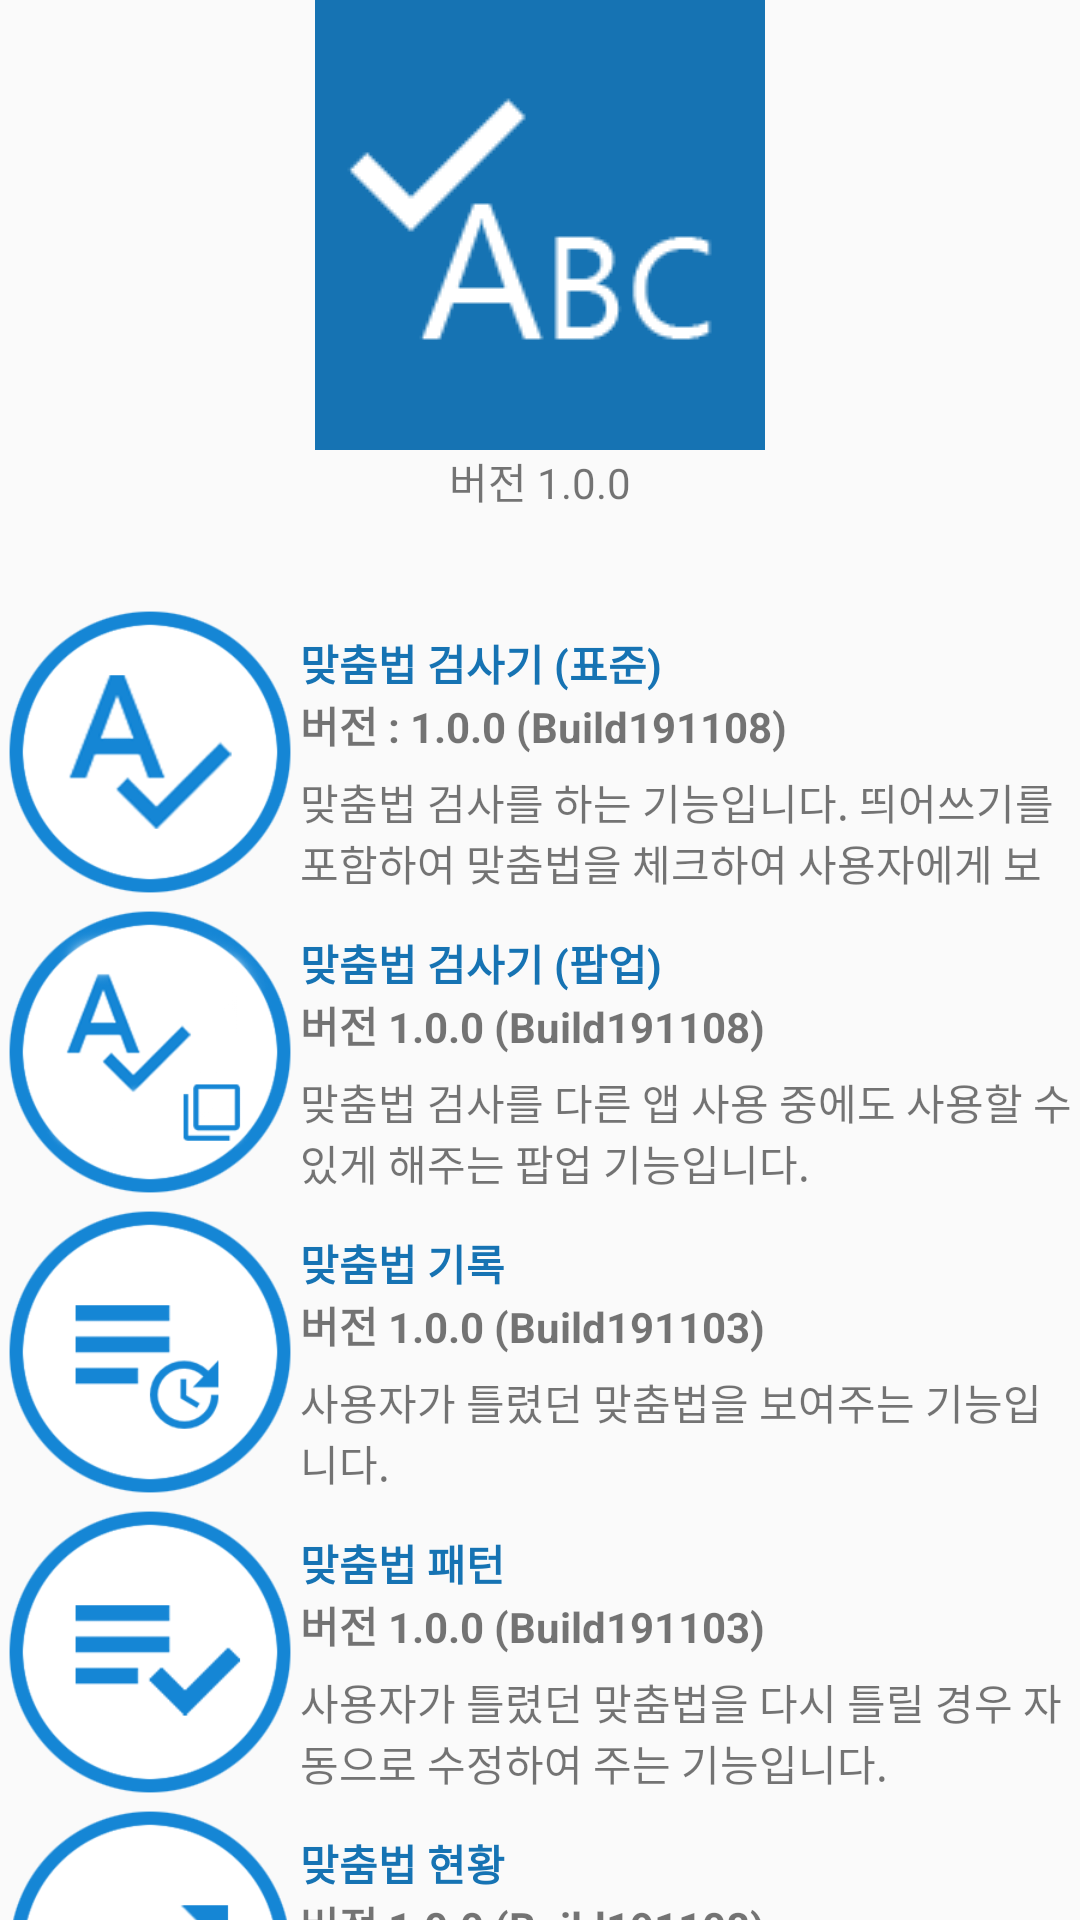

Named icons in this screenshot (1080 × 1920) and their centers, [x,y]:
log: [150,1352], [150,1652]
